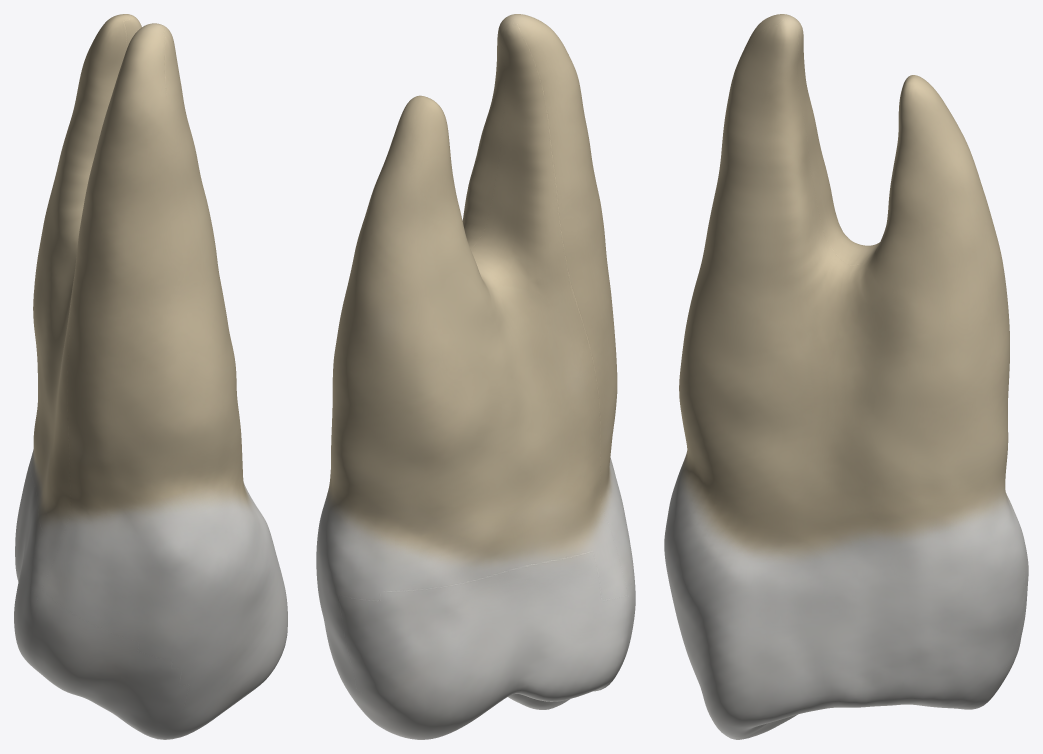
3 views of the same model, side by side, from view 1: azimuth 30°, elevation 25°; view 2: azimuth 150°, elevation 25°; view 3: azimuth 270°, elevation 25° (orthographic). The views are drawn at different scales.
Visible parts, largest first — view 1: t24; view 2: t24; view 3: t24.
Boxes of the visible parts, x1,y1,x2,y2 form: t24: [14, 14, 287, 739]; t24: [316, 14, 635, 739]; t24: [664, 14, 1028, 739].
Size of the model in its own units: 8.16 by 22.5 by 10.29.
Materials: 1 (1 with a texture image).
